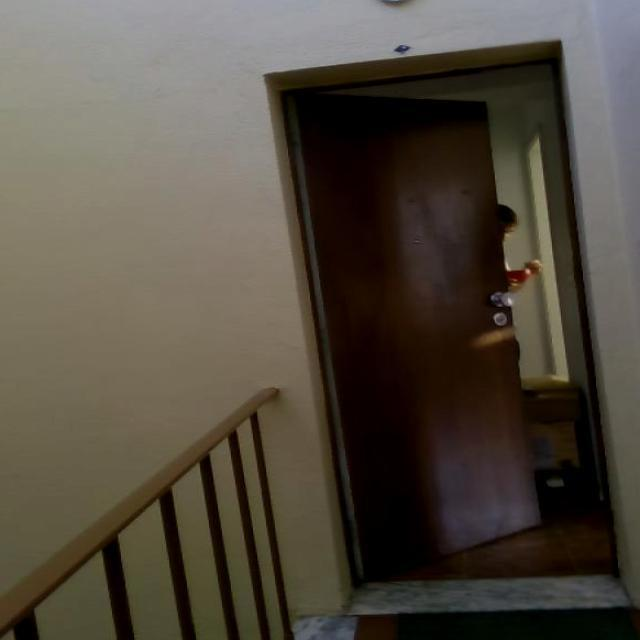door: (289, 90, 545, 583)
